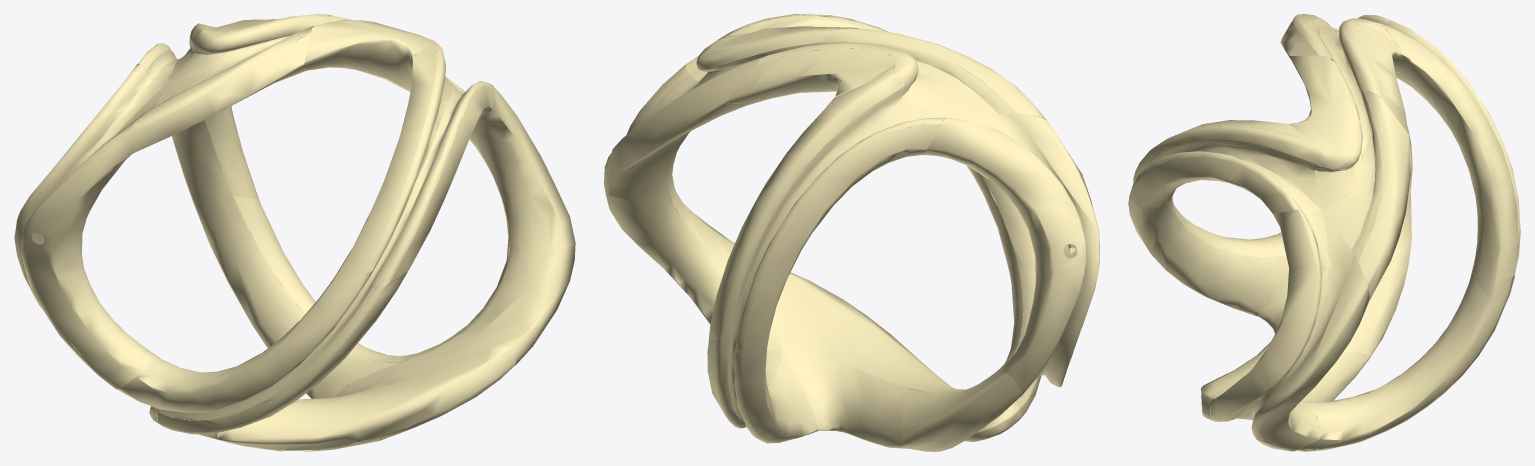
The model's file is visual-ring.glb.
3 views of the same model, side by side, from view 1: azimuth 30°, elevation 25°; view 2: azimuth 150°, elevation 25°; view 3: azimuth 270°, elevation 25° (orthographic). The views are drawn at different scales.
Visible parts, largest first — view 1: 1.002; view 2: 1.002; view 3: 1.002.
Boxes of the visible parts, x1=… form: 1.002: x1=14, y1=14, x2=575, y2=451; 1.002: x1=604, y1=14, x2=1099, y2=451; 1.002: x1=1128, y1=14, x2=1520, y2=451.
Bounding box in the file's own units: 2.35 × 1.79 × 1.72.
